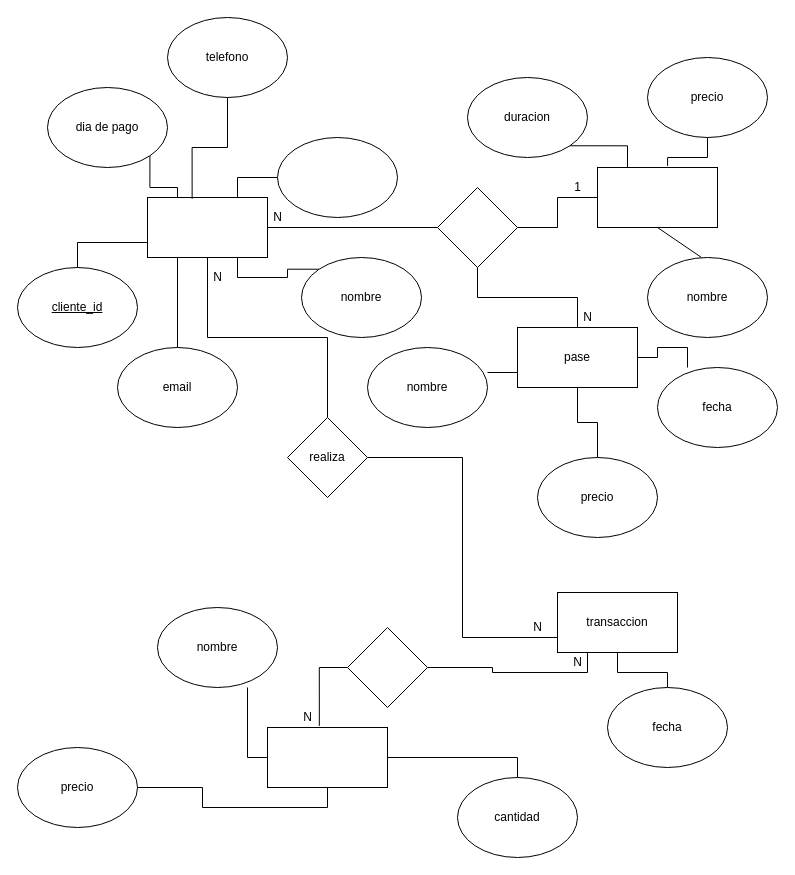
This 795x875 diagram has some shape labels left out. Each missing label, with the box of its shape:
apellido: (276, 136, 398, 218)
cliente: (146, 196, 268, 258)
producto: (266, 726, 388, 788)
registra: (346, 626, 428, 708)
suscripcion: (596, 166, 718, 228)
tiene: (436, 186, 518, 268)
